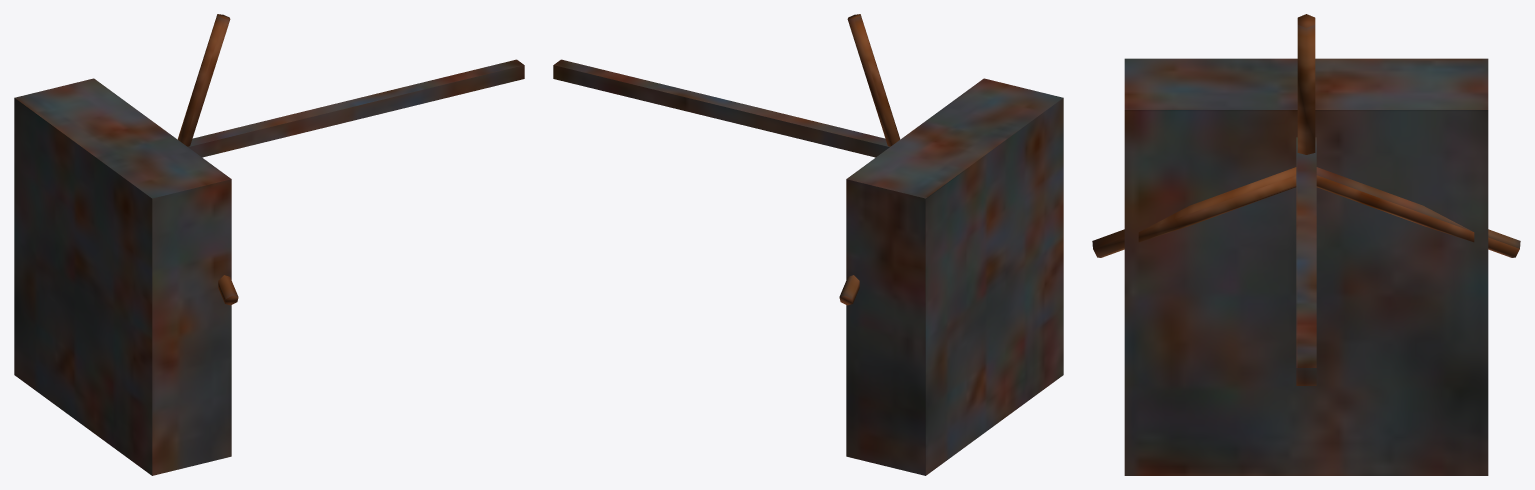
File: turnstile.glb
3 renders of one model, left to right at view 1: azimuth 30°, elevation 25°; view 2: azimuth 150°, elevation 25°; view 3: azimuth 270°, elevation 25°, orthographic. The views are drawn at different scales.
Parts seen in each view (by area): view 1: Main; view 2: Main; view 3: Main.
Boxes of the visible parts, left/top/right/bottom form: Main: left=14, top=14, right=524, bottom=475; Main: left=553, top=14, right=1063, bottom=475; Main: left=1092, top=14, right=1520, bottom=475.
Bounding box in the file's own units: 1.65 × 1.36 × 1.06.
Materials: 1 (1 with a texture image).
